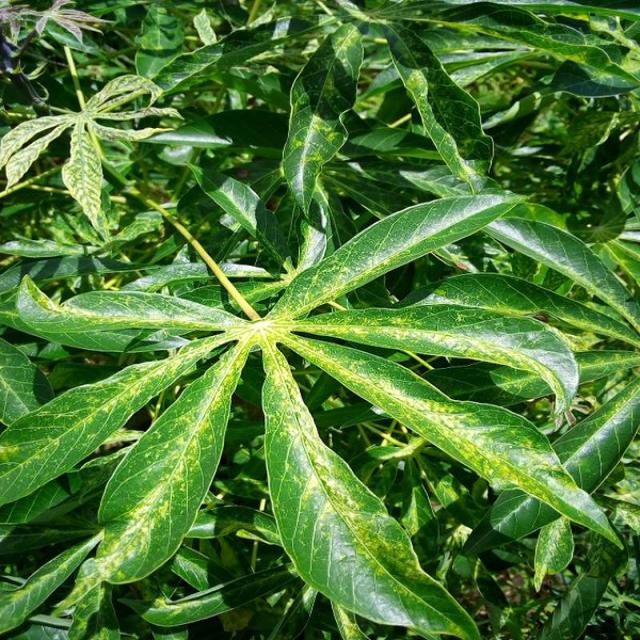cassava leaf: (0, 2, 638, 638), (259, 339, 482, 638)
